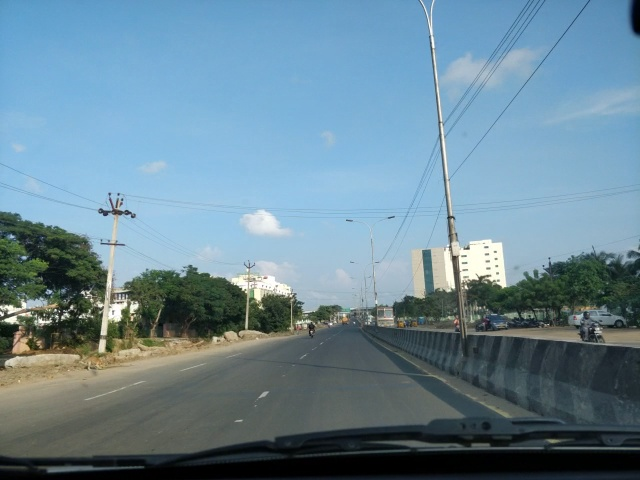bus: (376, 306, 393, 327)
car: (482, 312, 508, 331)
motorbike: (575, 309, 605, 341), (303, 321, 319, 335)
motorbikes: (450, 309, 458, 335)
